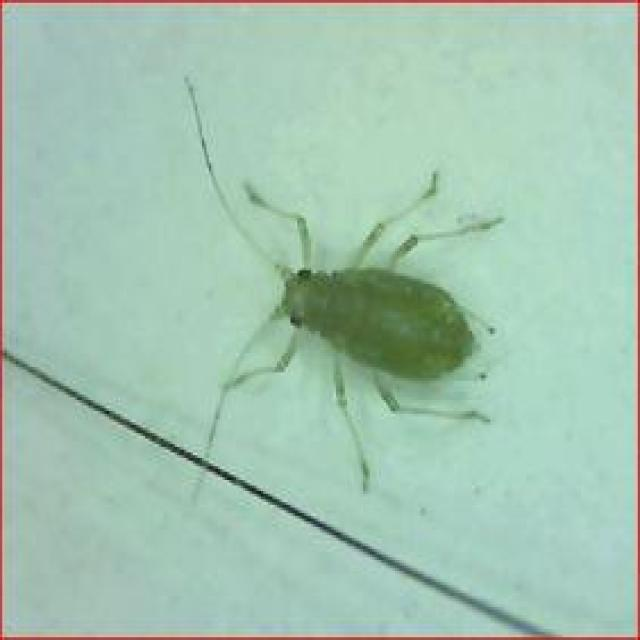Aphids: (153, 100, 530, 520)
